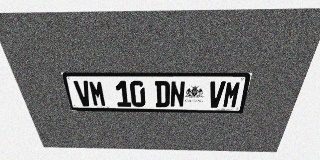0: (129, 81, 146, 107)
1: (114, 81, 131, 107)
D: (155, 81, 170, 107)
M: (222, 81, 242, 108), (88, 81, 107, 107)
N: (170, 81, 185, 107)
V: (73, 80, 93, 106), (207, 81, 226, 108)
